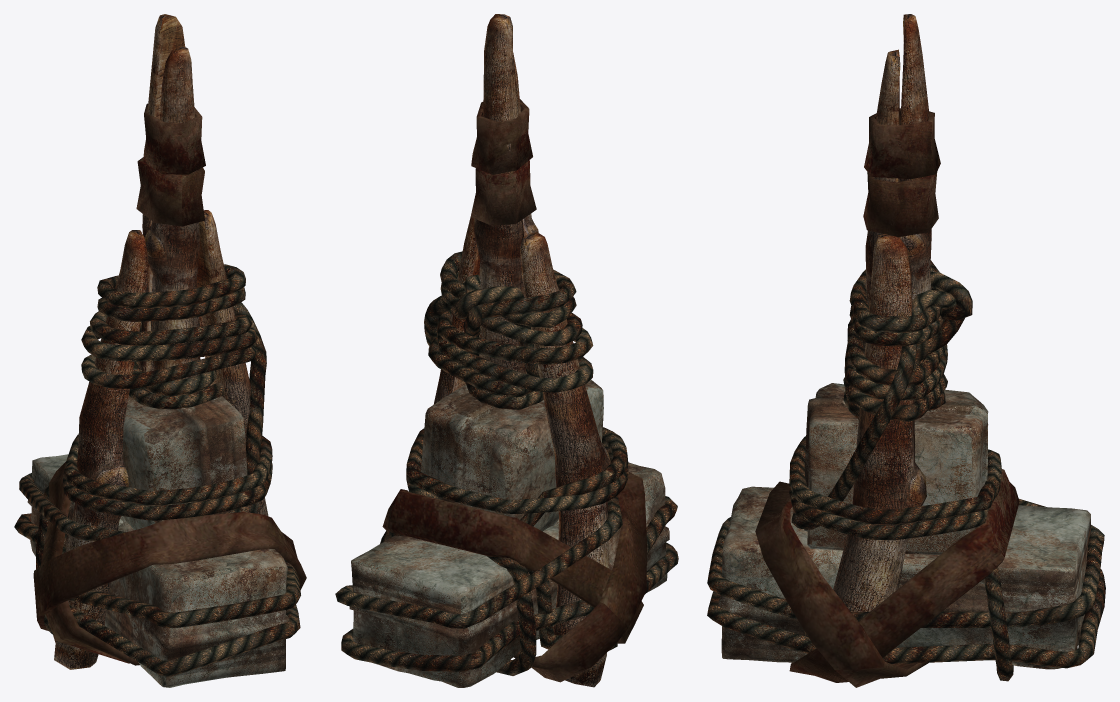
Rendered from CaveTrollHammer.obj.
The picture shows the model from 3 angles, left to right: view 1: azimuth 30°, elevation 25°; view 2: azimuth 150°, elevation 25°; view 3: azimuth 270°, elevation 25°; orthographic projection. The views are drawn at different scales.
Visible parts, largest first — view 1: orc_1_hummer; view 2: orc_1_hummer; view 3: orc_1_hummer.
Boxes of the visible parts, box(x1,y1,x2,y2) form: orc_1_hummer: box(14, 14, 306, 687); orc_1_hummer: box(335, 14, 678, 687); orc_1_hummer: box(707, 14, 1105, 687).
Bounding box in the file's own units: 0.7038 × 1.84 × 1.01.
